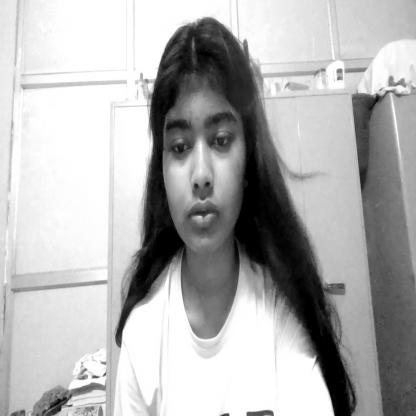Normal: (152, 24, 256, 263)
